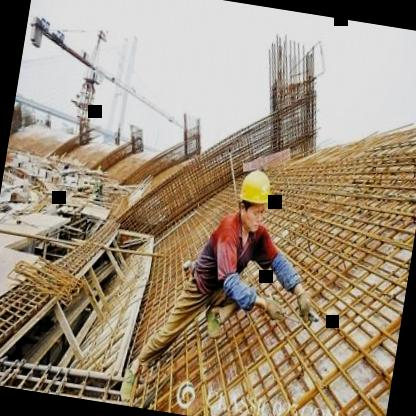helmet: (230, 162, 280, 235)
